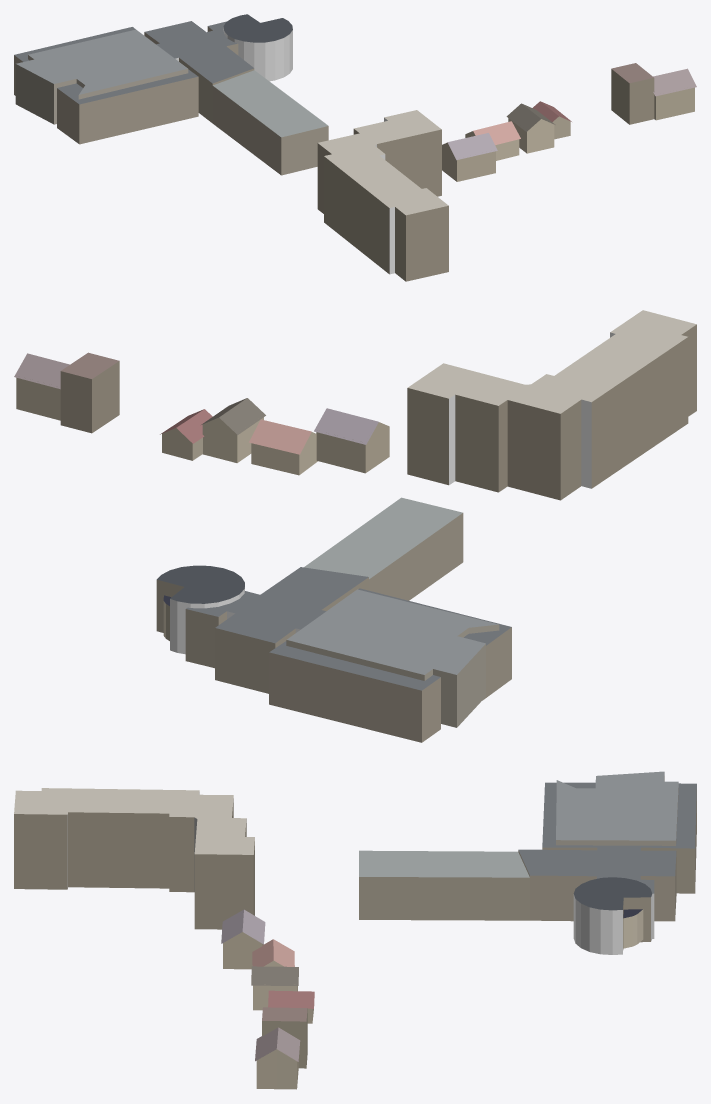
3 renders of one model, top to bottom at view 1: azimuth 30°, elevation 25°; view 2: azimuth 150°, elevation 25°; view 3: azimuth 270°, elevation 25°, orthographic. The views are drawn at different scales.
Visible parts, largest first — view 1: tuile; view 2: tuile; view 3: tuile.
Part boxes in pixels (box(x1,y1,x2,y2)): tuile: box(14, 14, 696, 281); tuile: box(14, 310, 696, 742); tuile: box(14, 771, 696, 1089).
Bounding box in the file's own units: 144 × 21.35 × 150.
